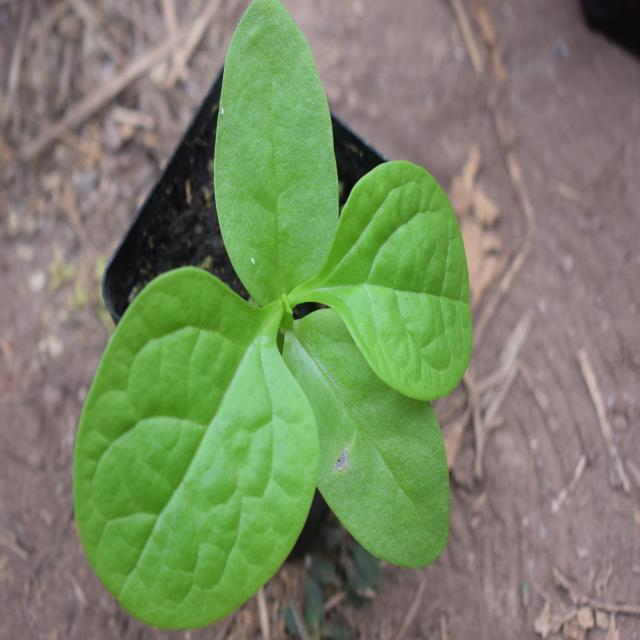Ceylon spinach: (78, 23, 495, 626)
